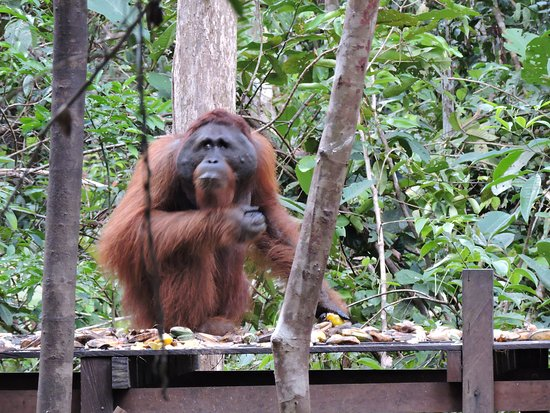Orangutan: (119, 105, 292, 326)
